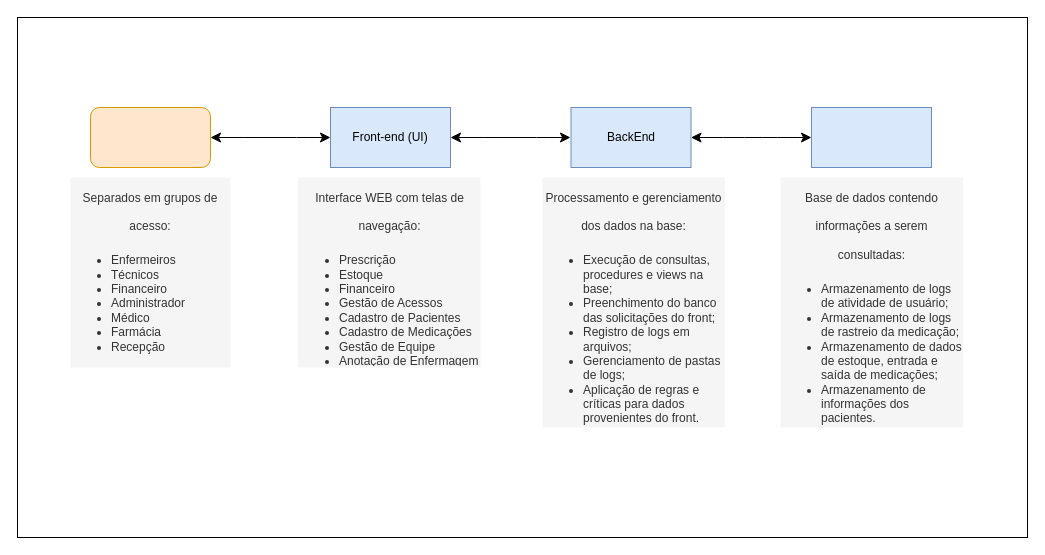
Some shapes in this 1045 by 555 pixel diagram are drawn without their labels. The shapes that lost their labels are listed below. From the top down, each one's centre as x and y in pixels, then its label:
[150,137]: Usuários
[871,137]: Database
